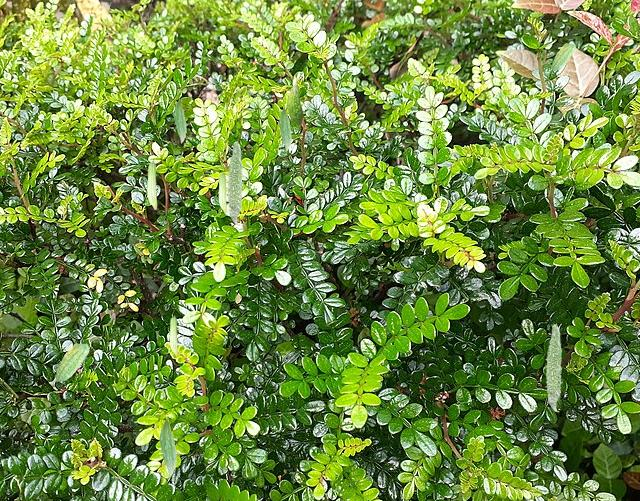ampalaya: (545, 323, 562, 412), (226, 140, 243, 225), (55, 342, 89, 382), (159, 417, 177, 478), (286, 77, 303, 126), (551, 42, 576, 71), (278, 106, 292, 151), (173, 98, 187, 143), (147, 160, 157, 210), (218, 171, 227, 213), (169, 314, 178, 356)
